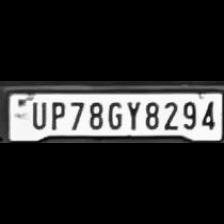2: (160, 98, 180, 132)
4: (197, 97, 217, 131)
7: (65, 98, 84, 130)
8: (140, 98, 160, 130), (84, 100, 104, 130)
9: (178, 98, 198, 130)
G: (104, 98, 124, 130)
P: (46, 98, 66, 130)
U: (26, 98, 48, 130)
Y: (123, 98, 141, 132)
